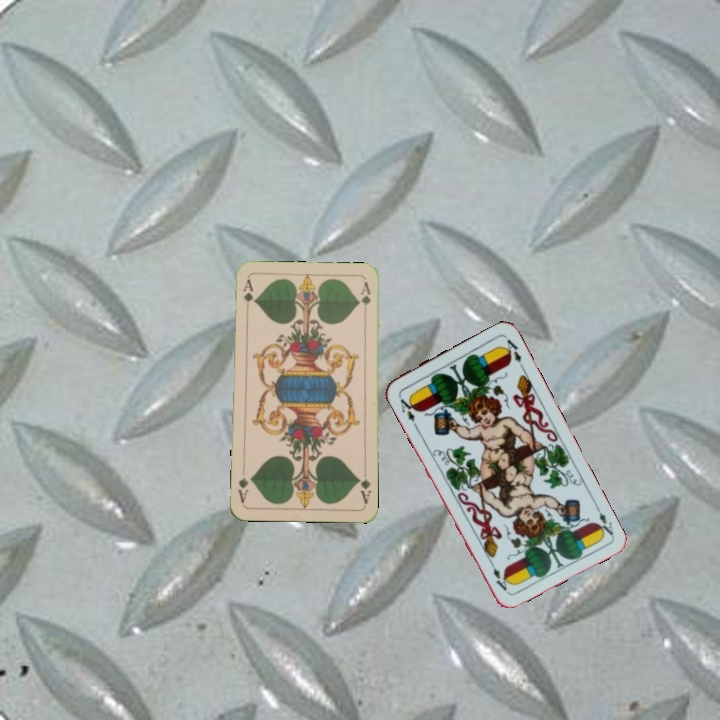EA: (394, 391, 419, 429), (591, 501, 616, 539)
GA: (239, 275, 256, 316), (354, 474, 374, 507)
